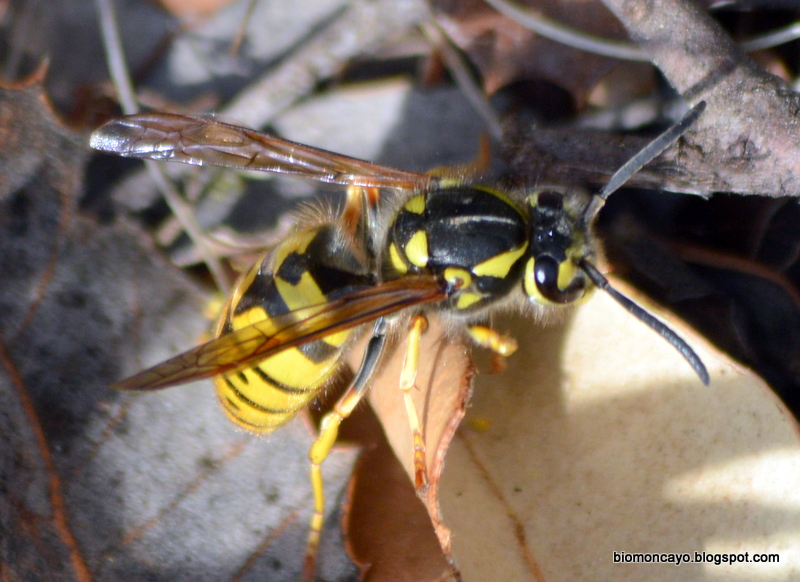chax: (69, 71, 738, 543)
